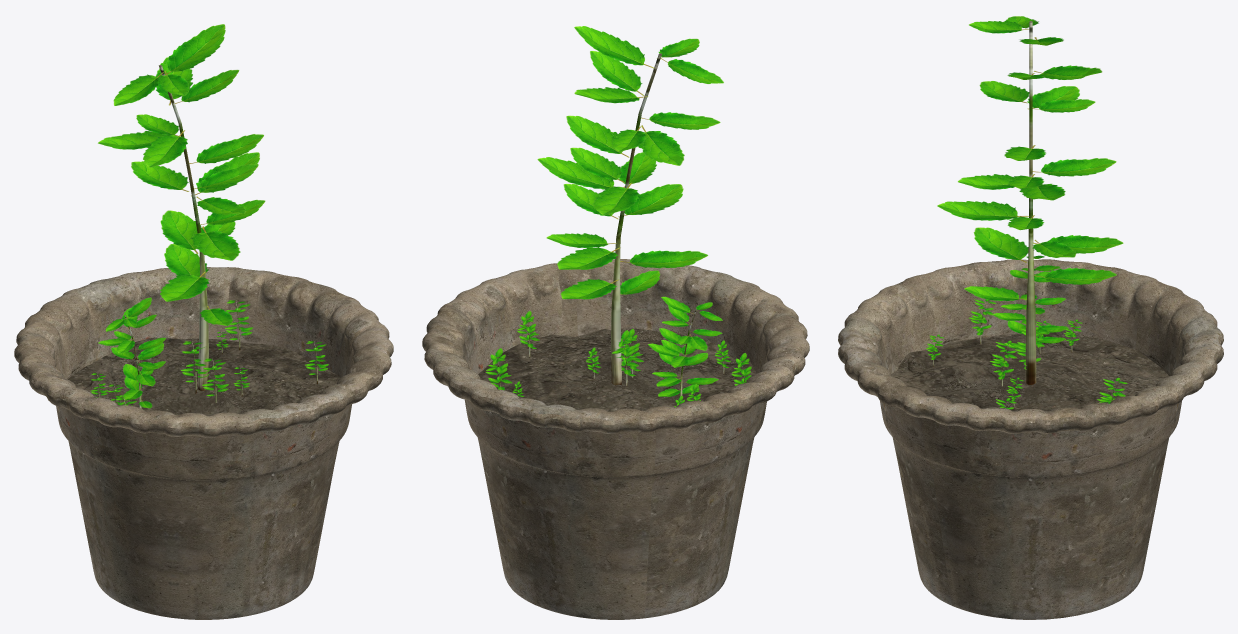
File: tulsi.glb
3 renders of one model, left to right at view 1: azimuth 30°, elevation 25°; view 2: azimuth 150°, elevation 25°; view 3: azimuth 270°, elevation 25°, orthographic. The views are drawn at different scales.
Parts seen in each view (by area): view 1: tub_0, bit tulsi tree_2, mud_1, tulsi tree small_3; view 2: tub_0, bit tulsi tree_2, mud_1, tulsi tree small_3; view 3: tub_0, bit tulsi tree_2, mud_1, tulsi tree small_3.
Boxes of the visible parts, x1=… form: tub_0: x1=14, y1=266, x2=393, y2=619; bit tulsi tree_2: x1=98, y1=24, x2=265, y2=390; mud_1: x1=68, y1=337, x2=340, y2=415; tulsi tree small_3: x1=90, y1=297, x2=328, y2=408; tub_0: x1=422, y1=259, x2=809, y2=619; bit tulsi tree_2: x1=537, y1=26, x2=723, y2=385; mud_1: x1=478, y1=328, x2=756, y2=411; tulsi tree small_3: x1=485, y1=296, x2=751, y2=407; tub_0: x1=838, y1=259, x2=1223, y2=619; bit tulsi tree_2: x1=937, y1=16, x2=1123, y2=384; mud_1: x1=891, y1=329, x2=1169, y2=411; tulsi tree small_3: x1=926, y1=250, x2=1127, y2=409.
Bounding box in the file's own units: 0.9649 × 1.51 × 0.9649.
Materials: 4 (4 with a texture image).
